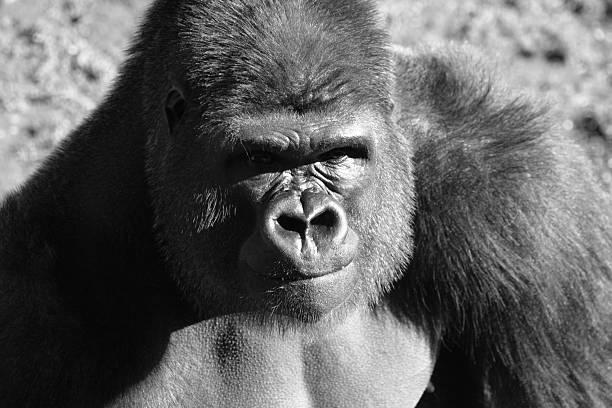gorille_Autres: (1, 0, 612, 408)
